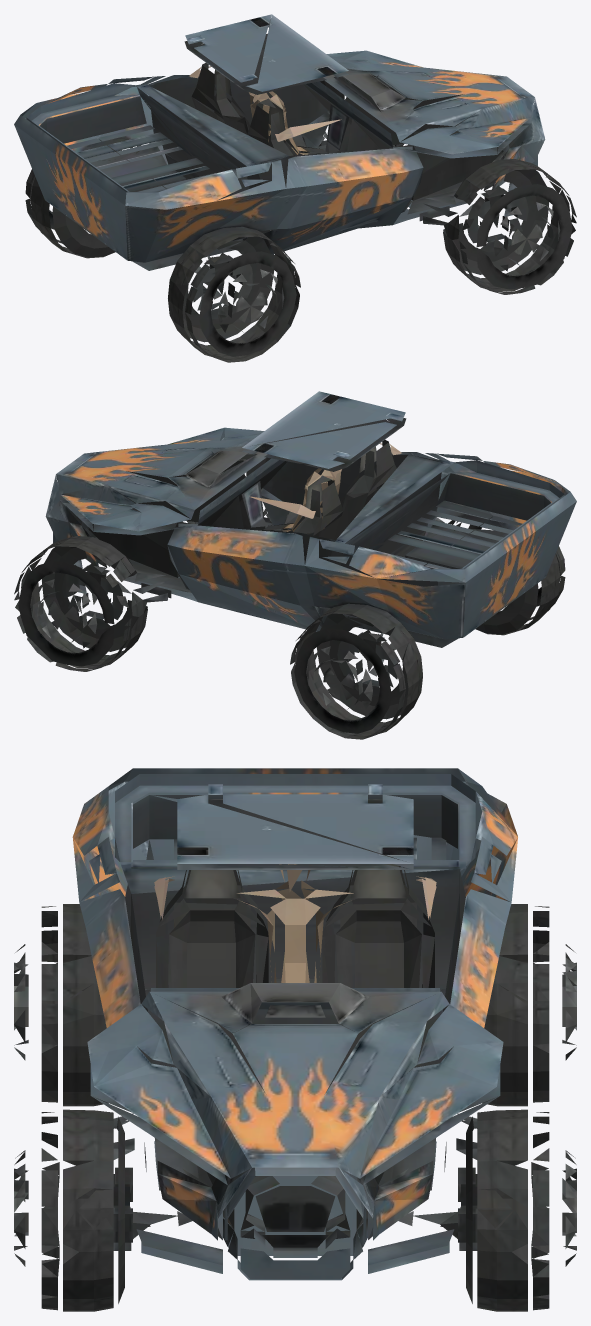
Rendered from scorcher_LOD2.glb.
3 renders of one model, top to bottom at view 1: azimuth 30°, elevation 25°; view 2: azimuth 150°, elevation 25°; view 3: azimuth 270°, elevation 25°, orthographic. The views are drawn at different scales.
Visible parts, largest first — view 1: scorcher_LOD2; view 2: scorcher_LOD2; view 3: scorcher_LOD2.
Boxes of the visible parts, left/top/right/bottom form: scorcher_LOD2: left=14, top=14, right=576, bottom=362; scorcher_LOD2: left=14, top=391, right=576, bottom=739; scorcher_LOD2: left=14, top=768, right=576, bottom=1311.
Size of the model in its own units: 0.9562 by 0.4654 by 0.6746.
Materials: 1 (1 with a texture image).
